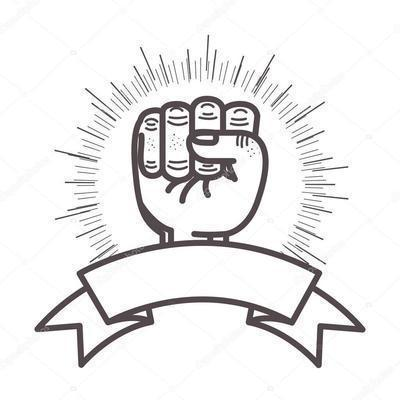closedhandfront: (130, 91, 270, 238)
